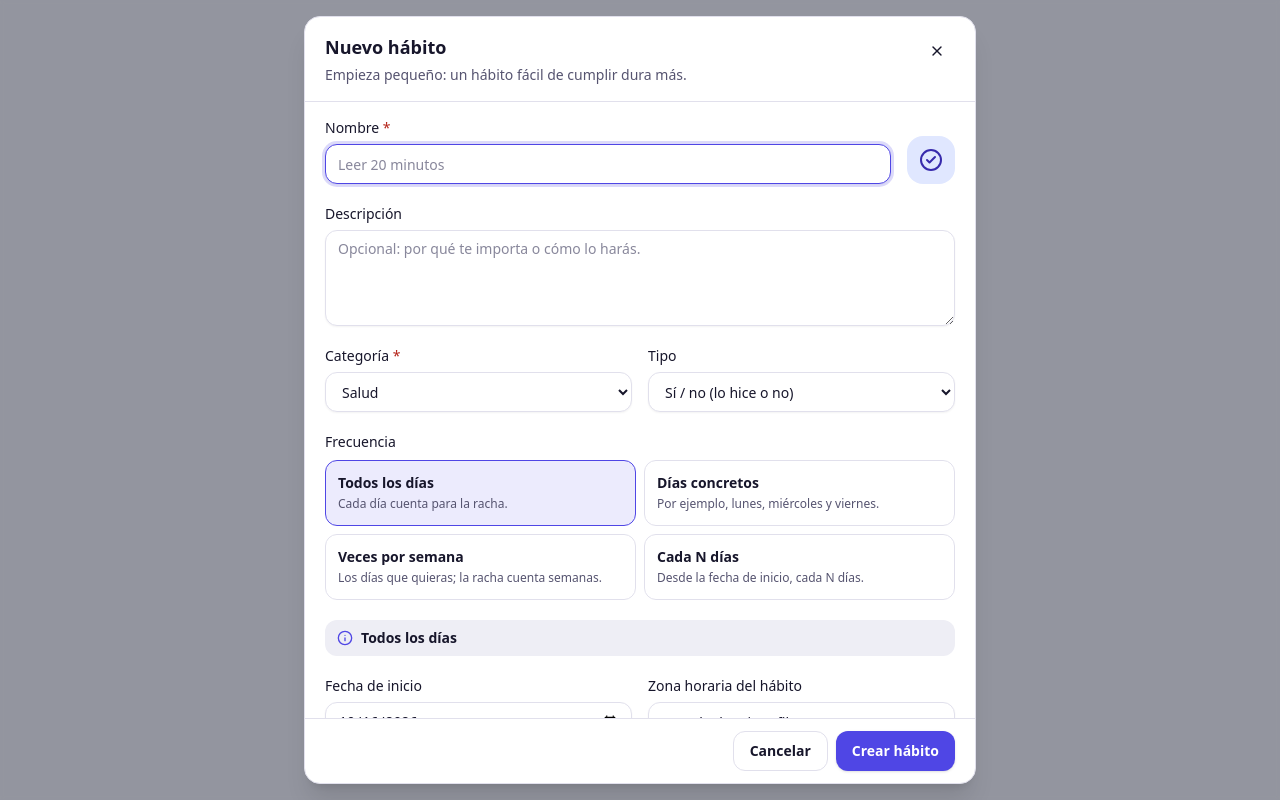
Test: HabitFormDialog › validates required fields and frequency parameters
Click the text "Días concretos" at (708, 482), box [657,473,759,492]
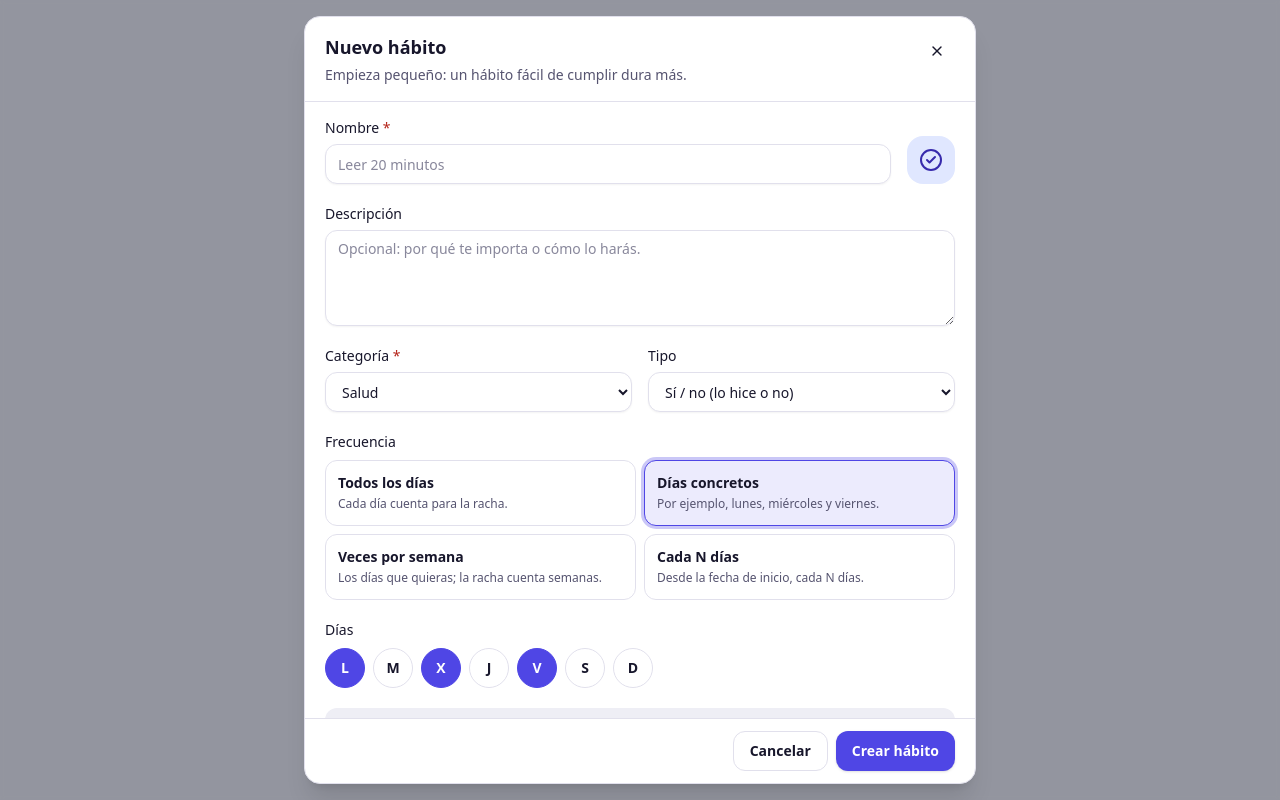
Click the checkbox named "Lunes" at (345, 668), box [325,648,365,688]
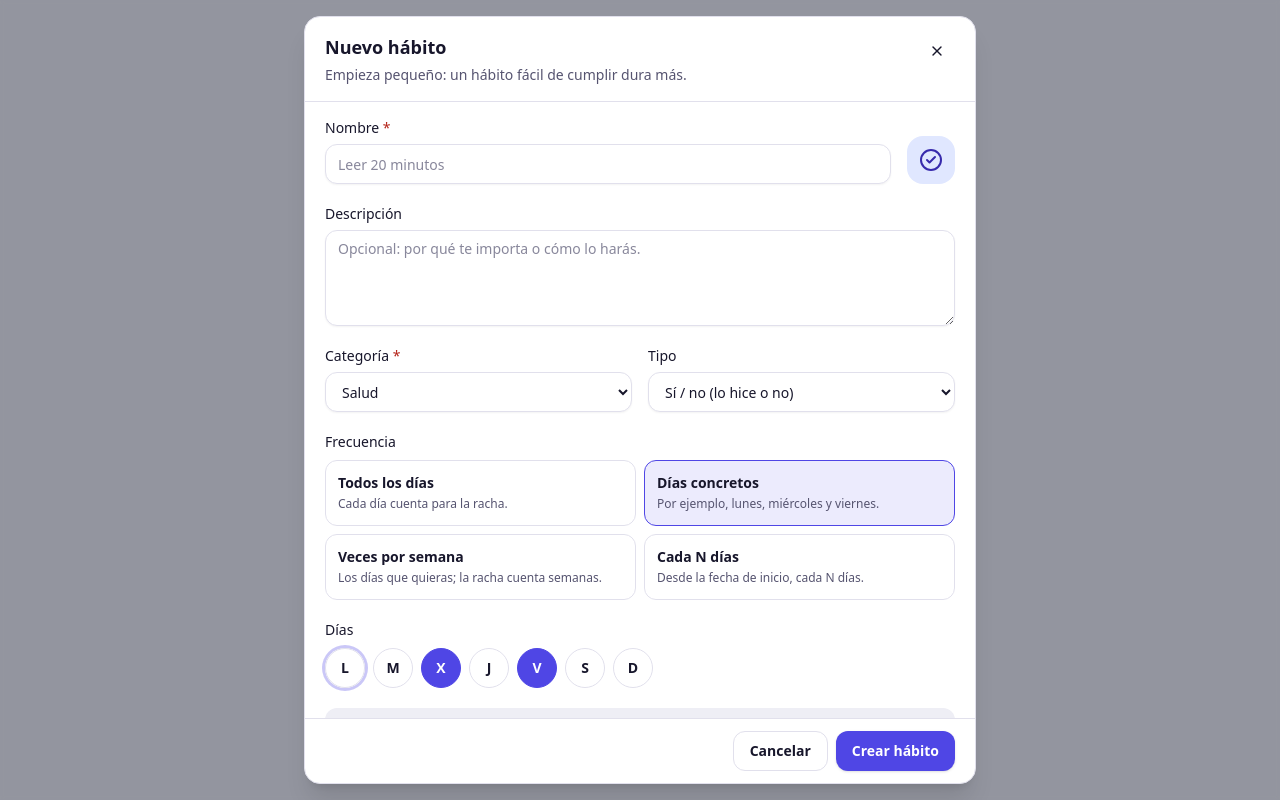
Click the checkbox named "Miércoles" at (441, 668), box [421,648,461,688]
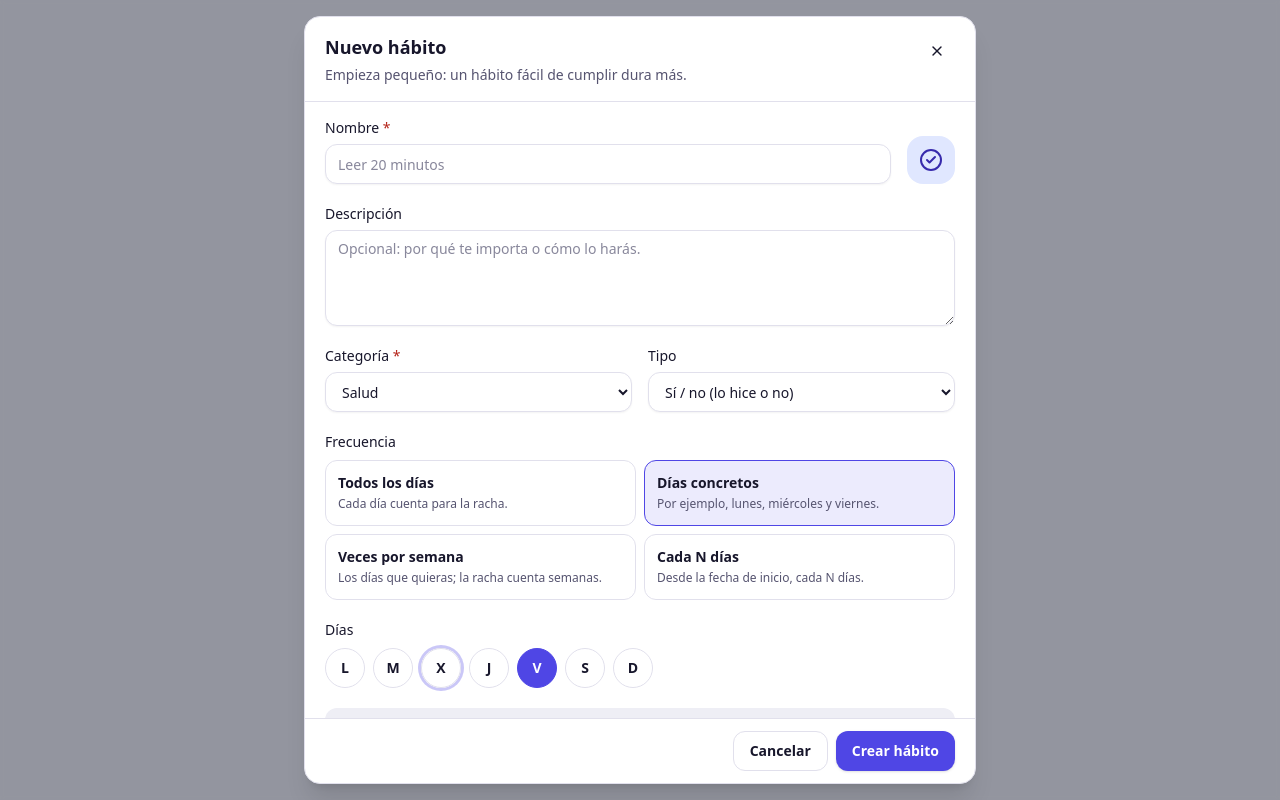
Click the checkbox named "Viernes" at (537, 668), box [517,648,557,688]
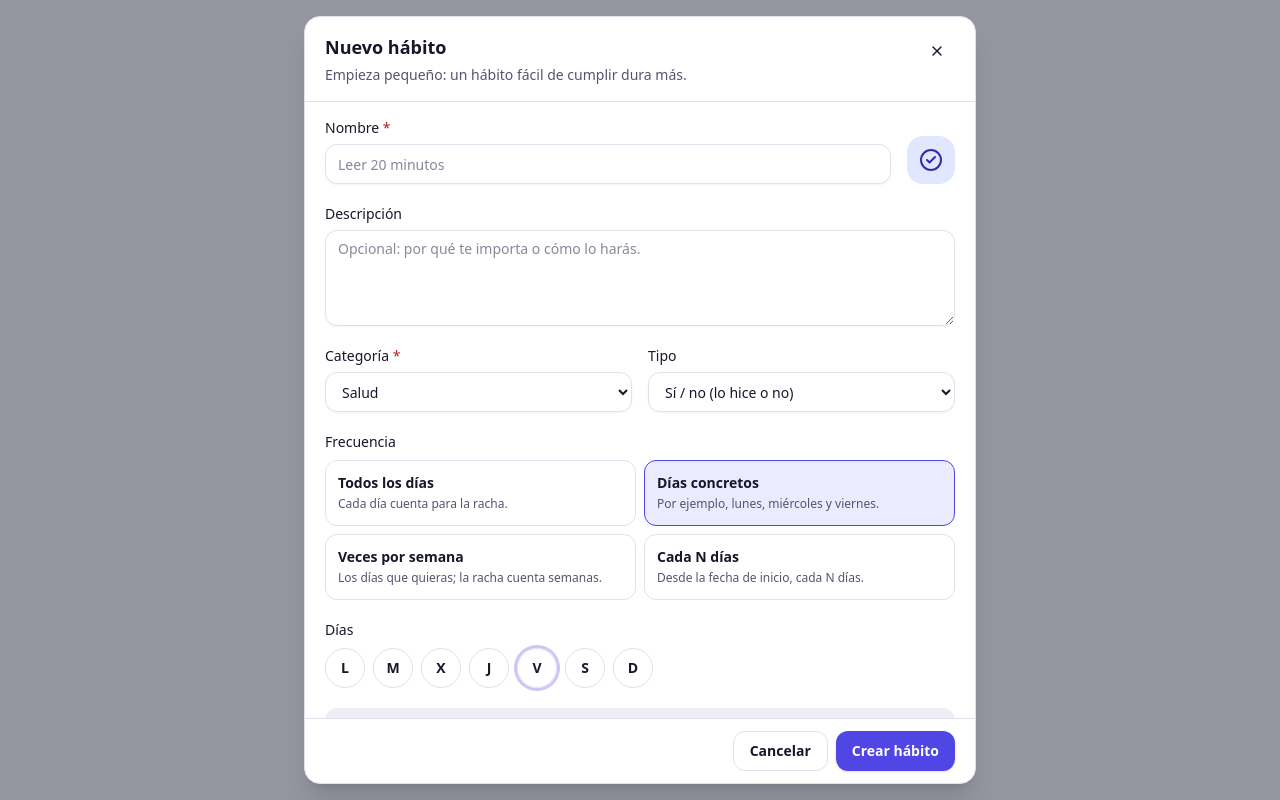
Click the button "Crear hábito" at (895, 751), box [836,731,955,771]
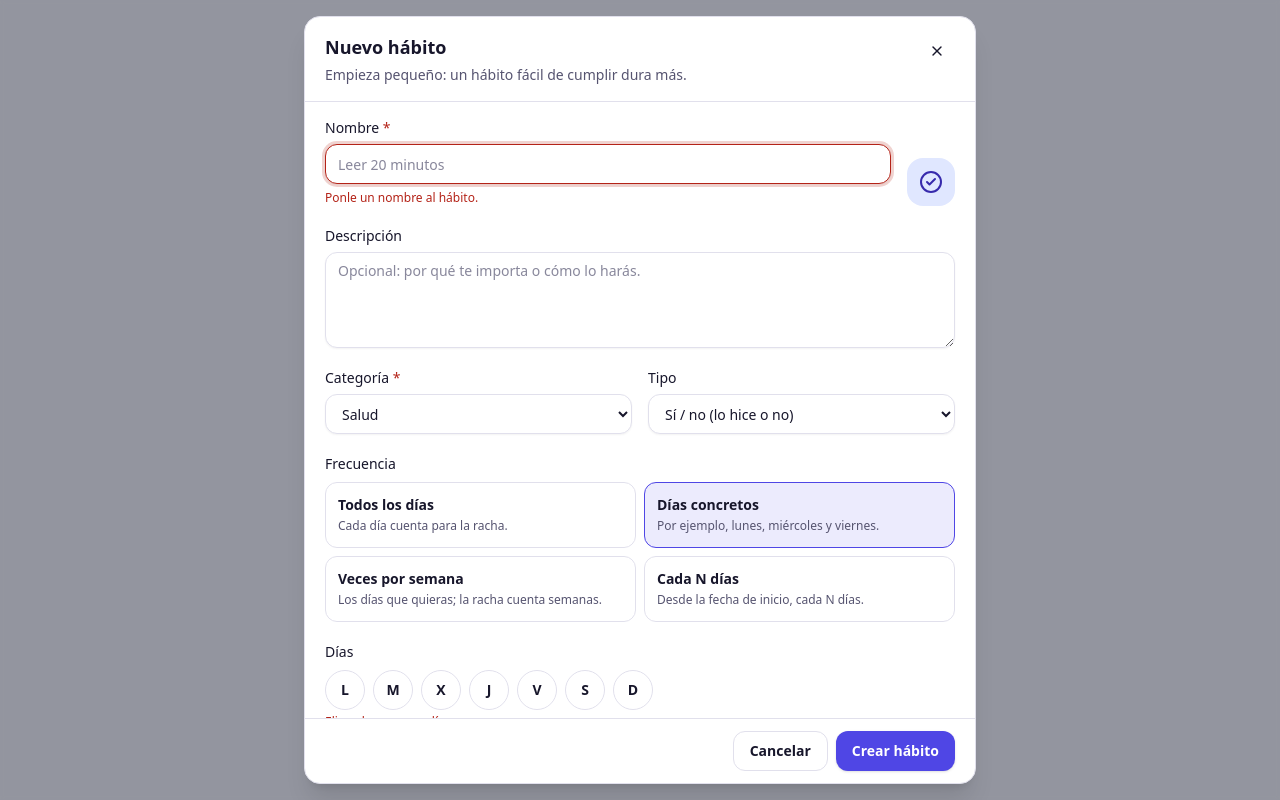
Expected: the text "Ponle un nombre al hábito." is shown, [325,189,478,206]
